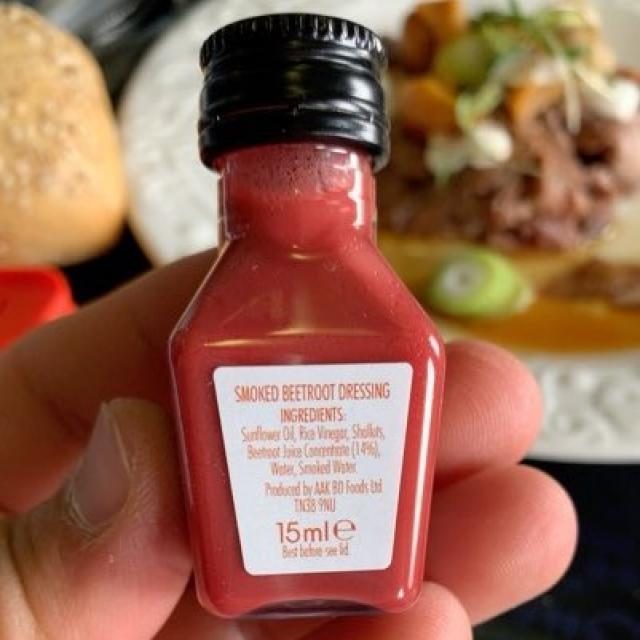salad: (180, 158, 432, 610)
